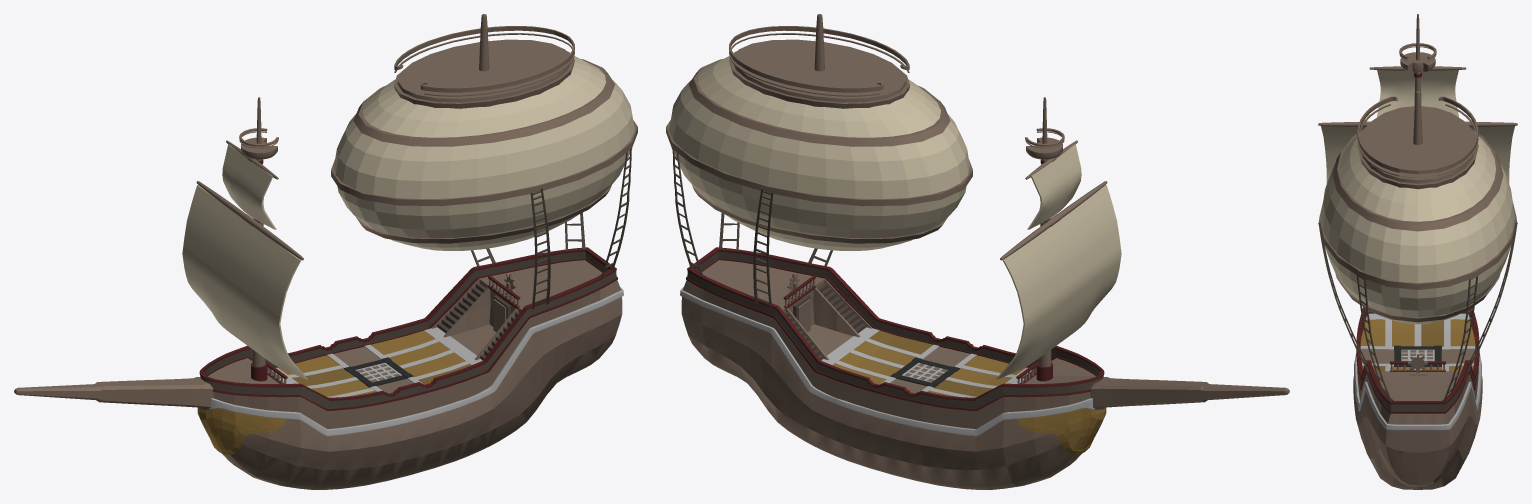
File: AirShipPlaceholder4_15_2026.fbx
3 renders of one model, left to right at view 1: azimuth 30°, elevation 25°; view 2: azimuth 150°, elevation 25°; view 3: azimuth 270°, elevation 25°, orthographic. The views are drawn at different scales.
Parts seen in each view (by area): view 1: Newship, Balloon, Sail_1, Balloon_Guard1, polySurface3, Pointer, polySurface4, Outer_Rim, pasted__Balloon_Guard, Balloon_Guard, Sail_2, polySurface7 (+12 smaller); view 2: Newship, Balloon, Sail_1, Balloon_Guard1, polySurface3, Pointer, polySurface4, Outer_Rim, pasted__Balloon_Guard, Balloon_Guard, Sail_2, polySurface7 (+12 smaller); view 3: Balloon, Newship, Balloon_Guard1, Sail_2, pasted__Balloon_Guard, Sail_1, Balloon_Guard, Outer_Rim, polySurface4, Balloon_Railing, Balloon_Guard2, polySurface3 (+18 smaller).
Part boxes in pixels (x1,y1,x2,y2): Newship: (208,260,622,489); Balloon: (334,56,634,250); Sail_1: (182,185,307,379); Balloon_Guard1: (397,39,570,102); polySurface3: (200,252,616,408); Pointer: (14,375,260,409); polySurface4: (199,247,616,401); Outer_Rim: (209,287,623,436); pasted__Balloon_Guard: (353,59,615,146); Balloon_Guard: (331,120,637,206); Sail_2: (222,144,276,229); polySurface7: (197,408,286,454); Newship: (681,260,1095,489); Balloon: (669,56,969,250); Sail_1: (996,185,1121,379); Balloon_Guard1: (733,39,906,102); polySurface3: (687,252,1103,408); Pointer: (1043,375,1289,409); polySurface4: (687,247,1104,401); Outer_Rim: (680,287,1094,436); pasted__Balloon_Guard: (688,59,950,146); Balloon_Guard: (666,120,972,206); Sail_2: (1027,144,1081,229); polySurface7: (1017,408,1106,454); Balloon: (1321,133,1514,324); Newship: (1353,311,1482,489); Balloon_Guard1: (1361,106,1474,183); Sail_2: (1377,70,1458,117); pasted__Balloon_Guard: (1332,129,1503,231); Sail_1: (1321,126,1514,183); Balloon_Guard: (1319,201,1516,289); Outer_Rim: (1354,353,1481,430); polySurface4: (1356,307,1479,404); Balloon_Railing: (1357,96,1478,174); Balloon_Guard2: (1357,123,1478,189); polySurface3: (1358,313,1477,411).
Bounding box in the file's own units: 2266 × 1520 × 677.
